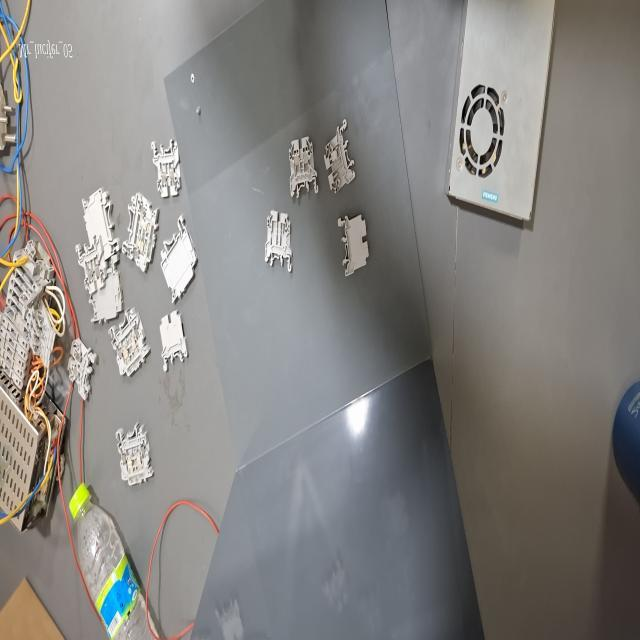Inverted: (336, 209, 369, 282), (158, 306, 189, 376)
Pass: (286, 134, 321, 202), (151, 132, 182, 202), (66, 335, 96, 404), (76, 234, 108, 298)
Reject: (323, 116, 358, 195), (262, 208, 294, 274)
